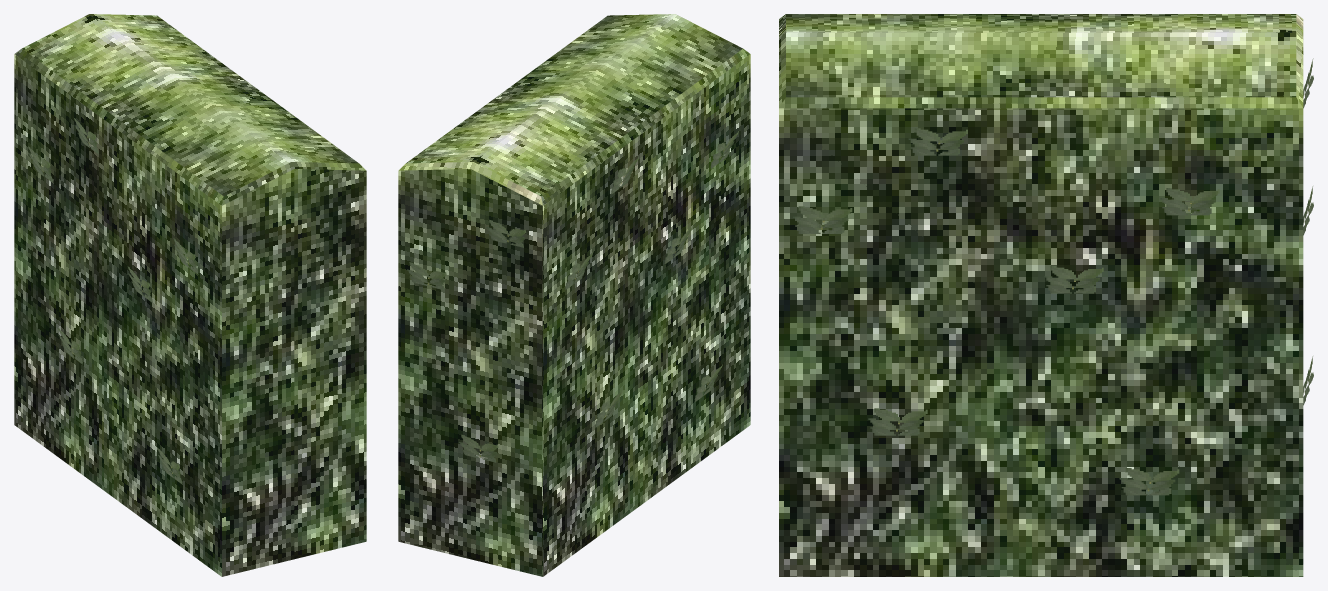
Rendered from psx_style_hedge.glb.
The picture shows the model from 3 angles, left to right: view 1: azimuth 30°, elevation 25°; view 2: azimuth 150°, elevation 25°; view 3: azimuth 270°, elevation 25°; orthographic projection. The views are drawn at different scales.
Visible parts, largest first — view 1: HEDGE_30; view 2: HEDGE_30; view 3: HEDGE_30.
Part boxes in pixels (x1,y1,x2,y2): HEDGE_30: [14, 14, 366, 576]; HEDGE_30: [398, 14, 750, 576]; HEDGE_30: [779, 14, 1313, 576].
Size of the model in its own units: 0.7454 by 1.75 by 1.7.
Materials: 2 (2 with a texture image).
